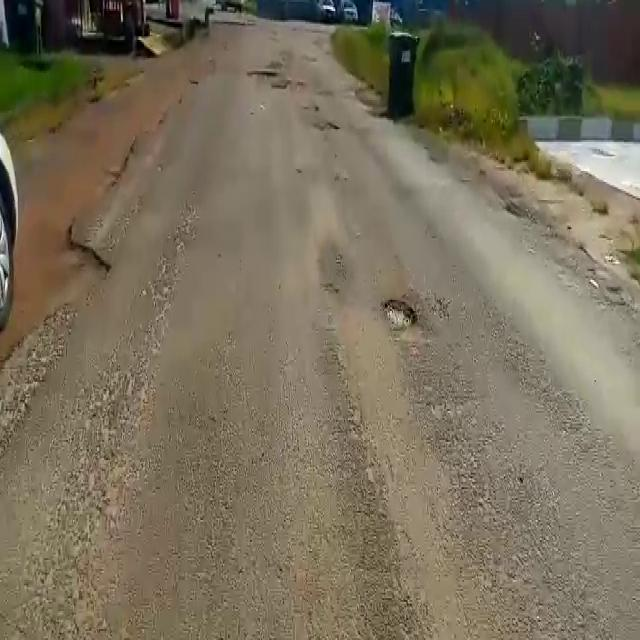Pothole: (381, 293, 423, 336), (316, 118, 348, 132)
